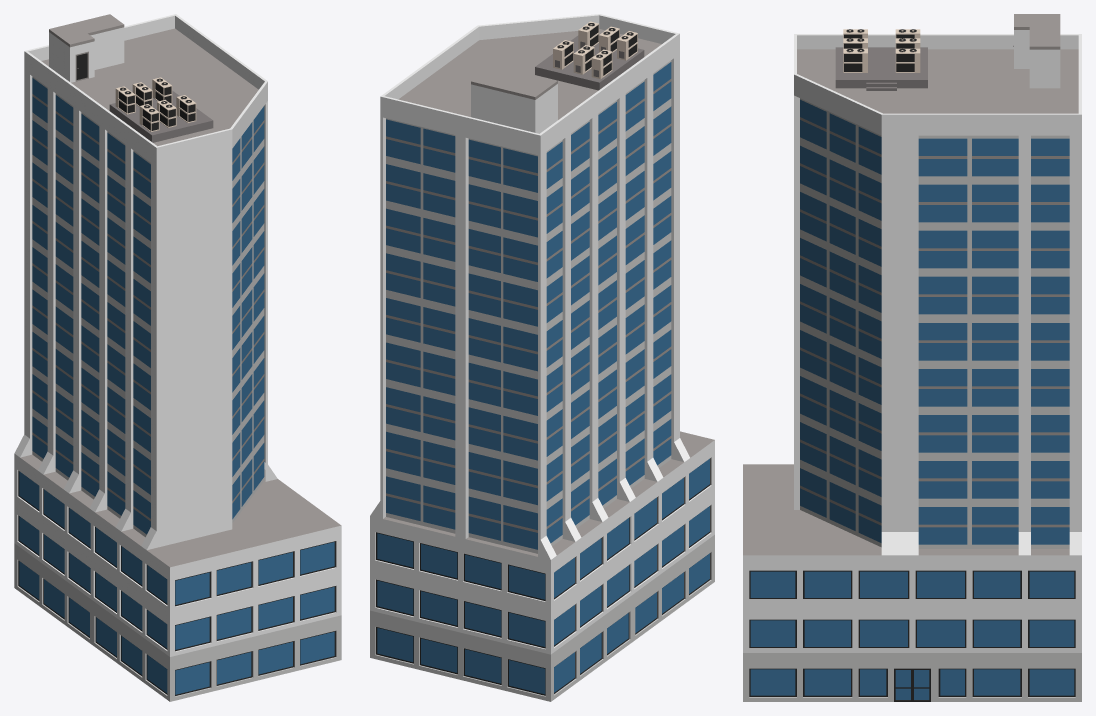
Rendered from building_2.fbx.
The picture shows the model from 3 angles, left to right: view 1: azimuth 30°, elevation 25°; view 2: azimuth 150°, elevation 25°; view 3: azimuth 270°, elevation 25°; orthographic projection. The views are drawn at different scales.
Visible parts, largest first — view 1: building_2; view 2: building_2; view 3: building_2.
Boxes of the visible parts, x1,y1,x2,y2 form: building_2: [14, 14, 341, 701]; building_2: [370, 14, 714, 701]; building_2: [743, 14, 1081, 701].
Bounding box in the file's own units: 1.4 × 4.37 × 2.2.
